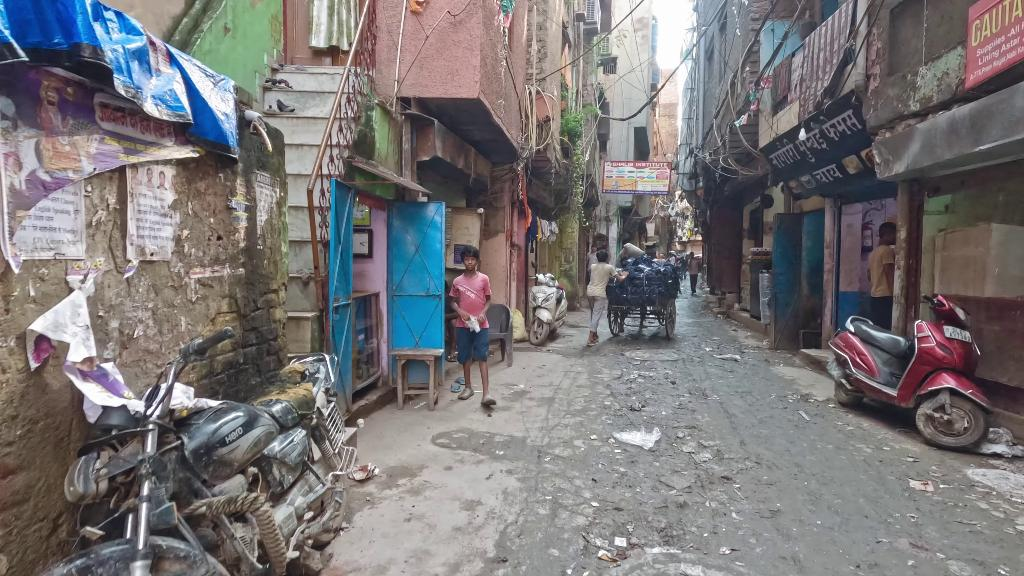garbage: (22, 288, 145, 422), (612, 423, 665, 449), (464, 315, 481, 333), (598, 549, 619, 563), (714, 352, 741, 361), (614, 536, 627, 549)
